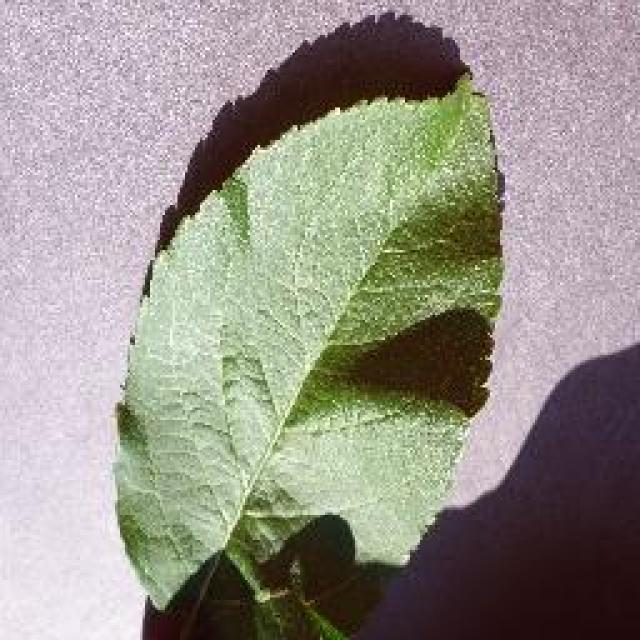apple healthy: (110, 8, 510, 638)
